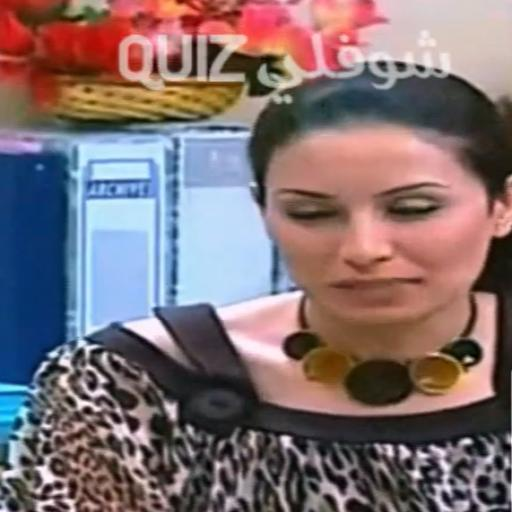Dalanda: (260, 125, 511, 322)
